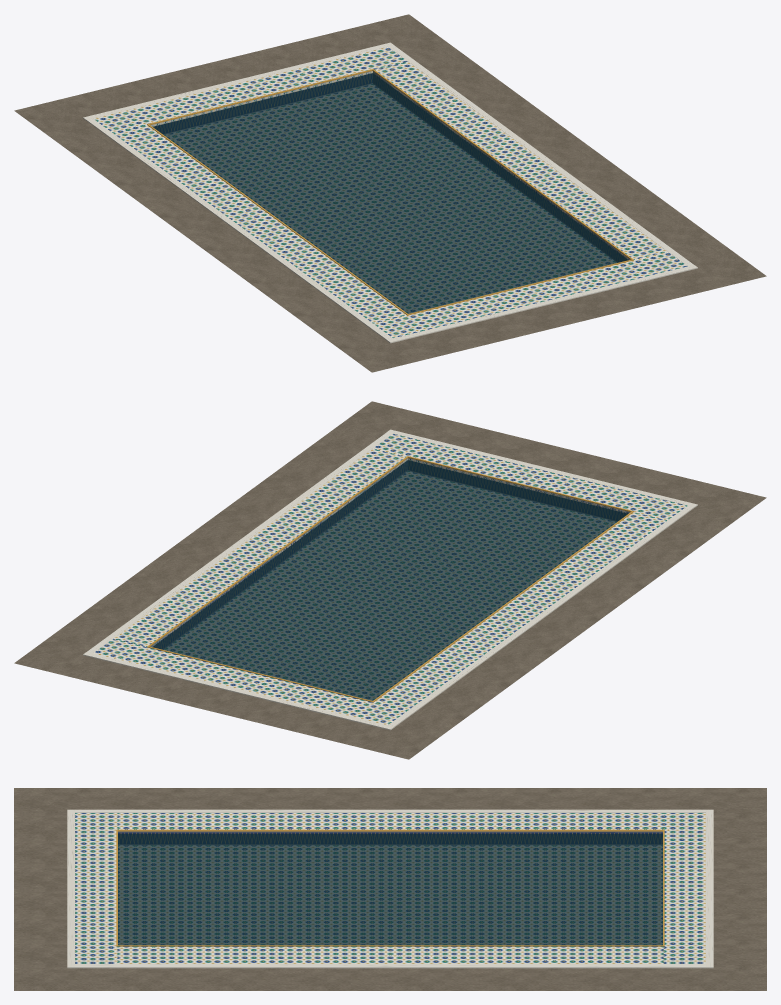
File: reflecting-pool.glb
3 renders of one model, top to bottom at view 1: azimuth 30°, elevation 25°; view 2: azimuth 150°, elevation 25°; view 3: azimuth 270°, elevation 25°, orthographic. The views are drawn at different scales.
Visible parts, largest first — view 1: reflecting-pool_MeshPhysicalMaterial (×7), reflecting-pool_MeshStandardMaterial (×4); view 2: reflecting-pool_MeshPhysicalMaterial (×7), reflecting-pool_MeshStandardMaterial (×4); view 3: reflecting-pool_MeshPhysicalMaterial (×7), reflecting-pool_MeshStandardMaterial (×3).
Part boxes in pixels (x1,y1,x2,y2): reflecting-pool_MeshPhysicalMaterial (×7): (83,42,697,343); reflecting-pool_MeshStandardMaterial (×4): (14,14,766,372); reflecting-pool_MeshPhysicalMaterial (×7): (83,429,697,730); reflecting-pool_MeshStandardMaterial (×4): (14,401,766,759); reflecting-pool_MeshPhysicalMaterial (×7): (67,809,713,968); reflecting-pool_MeshStandardMaterial (×3): (14,788,766,990).
Bounding box in the file's own units: 15.8 × 0.5747 × 24.8.
Materials: 6 (4 with a texture image).
